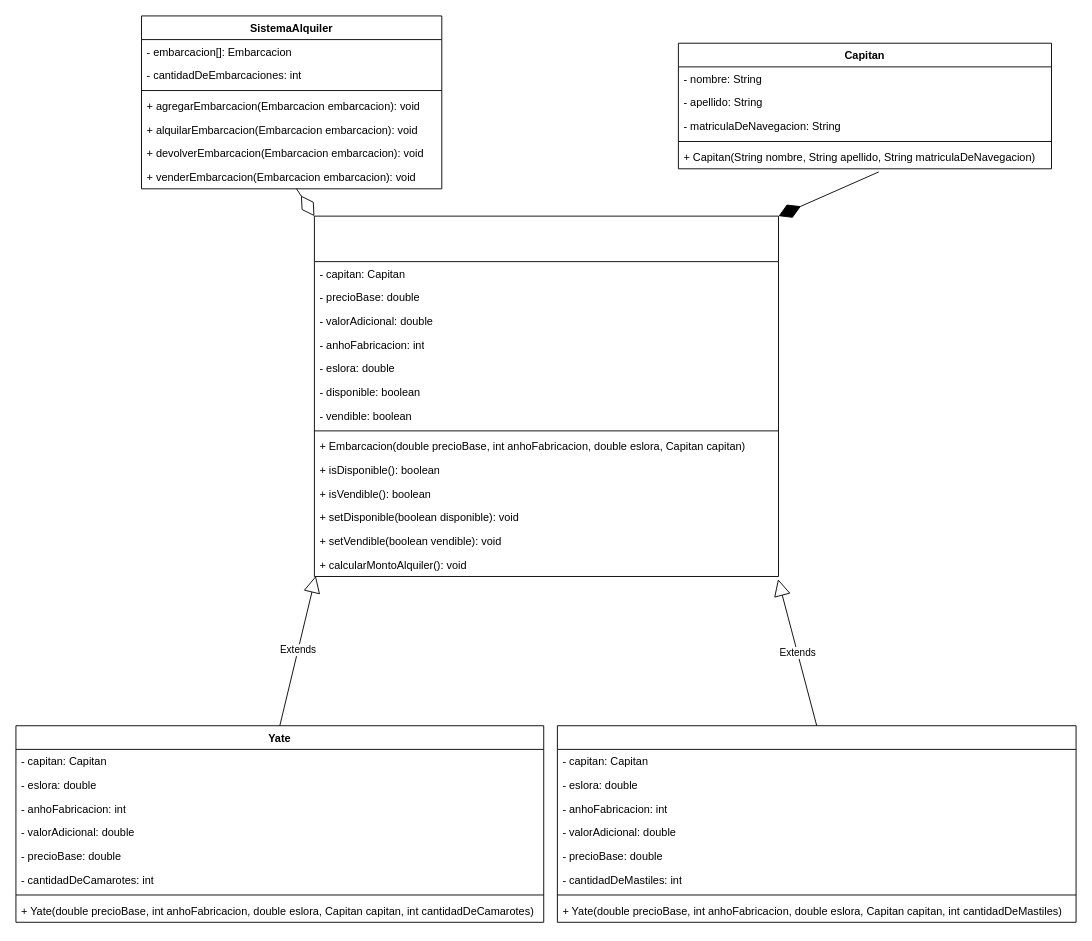
The diagram is 1092 pixels wide and 941 high, and some of its shapes have lost their labels. The shapes that lost their labels are listed below. From the top down, each one's box as (x1, y1, x2, y2) in pixels, then its label:
(313, 215, 779, 576): <<Abstract>> Embarcacion
(556, 725, 1076, 922): Velero
